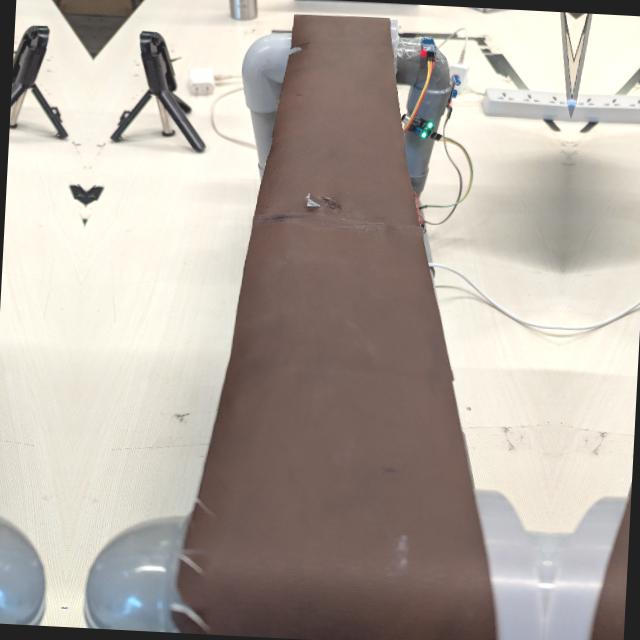joint_damage: (295, 188, 349, 221)
